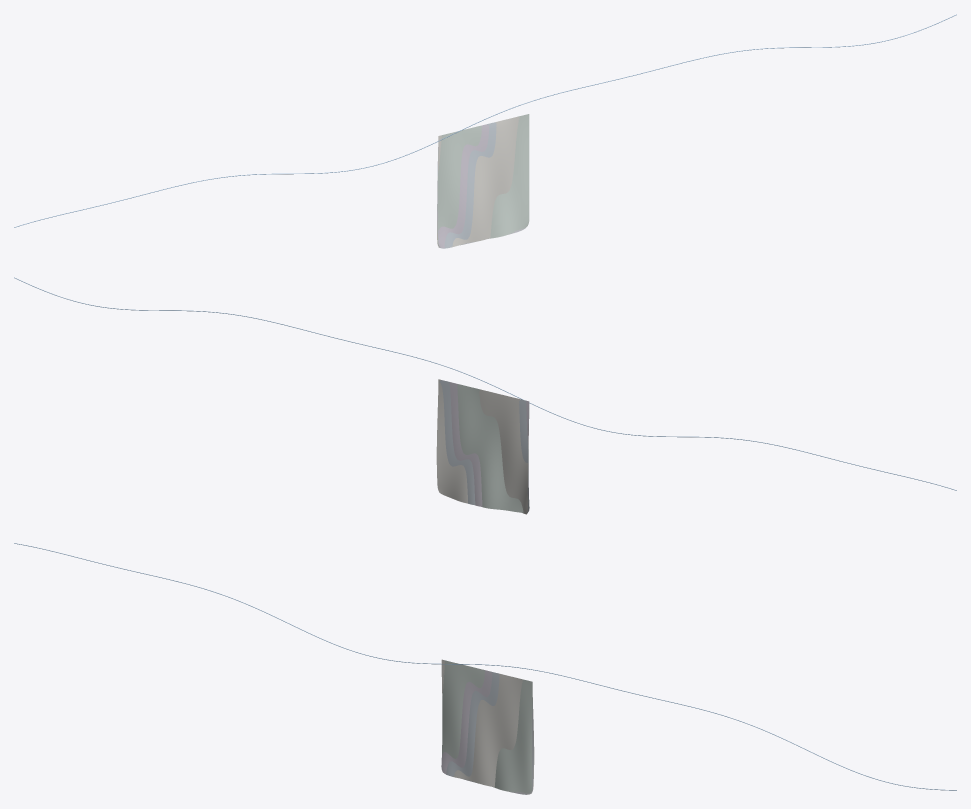
File: spaceyew-home-wind.glb
3 renders of one model, top to bottom at view 1: azimuth 30°, elevation 25°; view 2: azimuth 150°, elevation 25°; view 3: azimuth 330°, elevation 25°, orthographic.
Parts seen in each view (by area): view 1: WindFabric_3, WindFabric_0, WindFabric_1, WindFabric_2, WindCable; view 2: WindFabric_0, WindFabric_3, WindFabric_1, WindFabric_2, WindCable; view 3: WindFabric_3, WindFabric_0, WindFabric_1, WindFabric_2, WindCable.
Part boxes in pixels (x1,y1,x2,y2): WindFabric_3: [437, 114, 529, 245]; WindFabric_0: [437, 116, 523, 247]; WindFabric_1: [437, 122, 525, 248]; WindFabric_2: [437, 124, 526, 248]; WindCable: [14, 14, 956, 227]; WindFabric_0: [436, 379, 529, 514]; WindFabric_3: [457, 384, 529, 512]; WindFabric_1: [439, 380, 529, 513]; WindFabric_2: [449, 382, 529, 511]; WindCable: [14, 277, 956, 490]; WindFabric_3: [442, 660, 532, 793]; WindFabric_0: [441, 659, 534, 794]; WindFabric_1: [446, 671, 533, 794]; WindFabric_2: [441, 670, 532, 793]; WindCable: [14, 543, 956, 790].
Size of the model in its own units: 22 by 2.93 by 0.1396.
